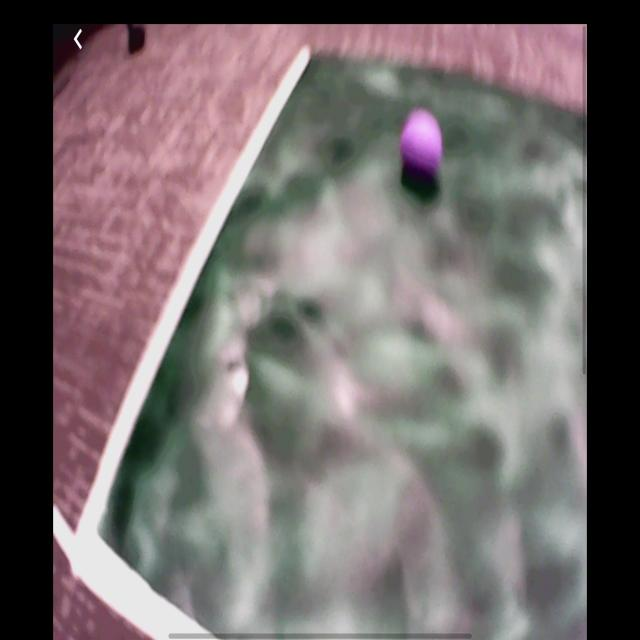ball: (401, 111, 443, 177)
